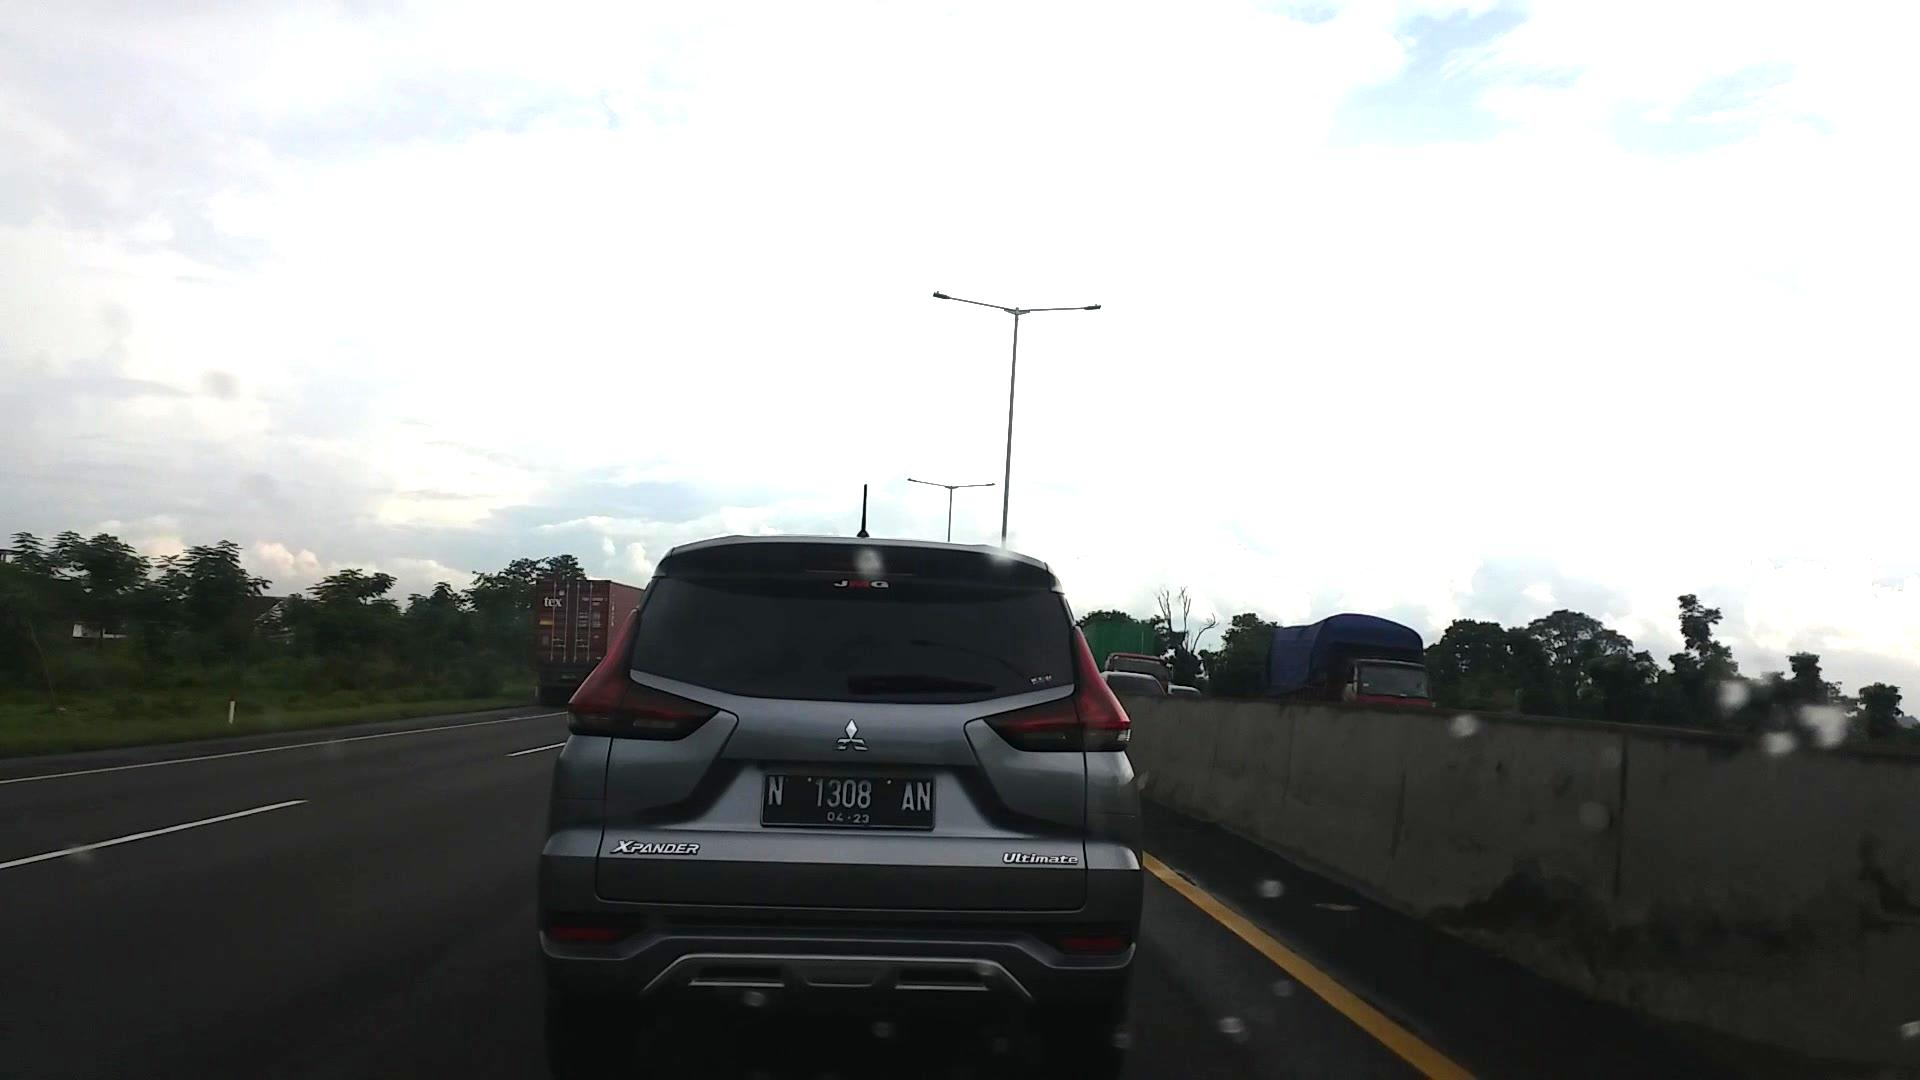plate_positive: (760, 771, 938, 832)
